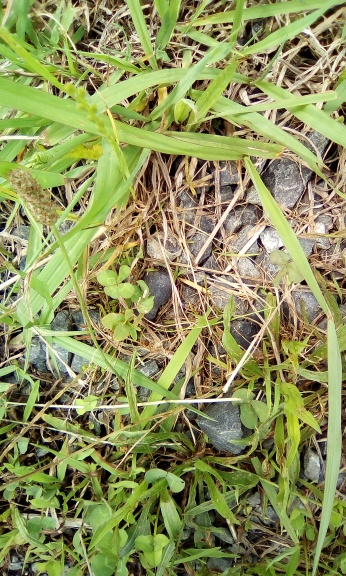4leaf: (96, 264, 136, 300), (101, 308, 143, 342)
